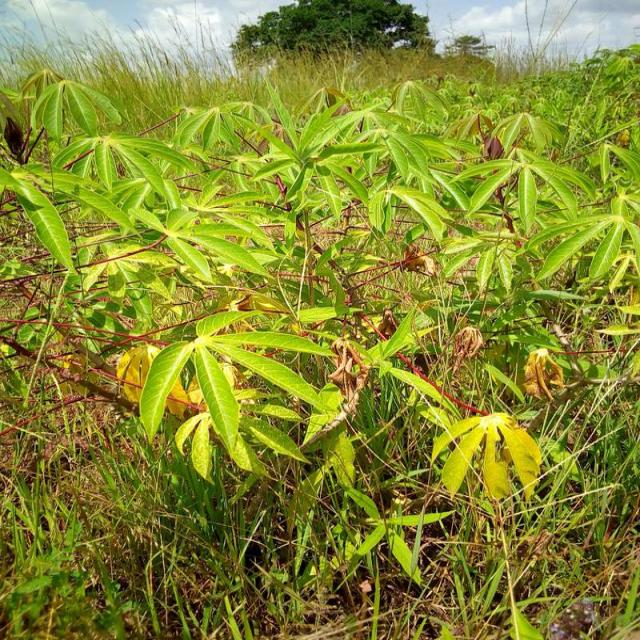cassava leaf: (138, 307, 338, 482), (431, 410, 544, 502)
